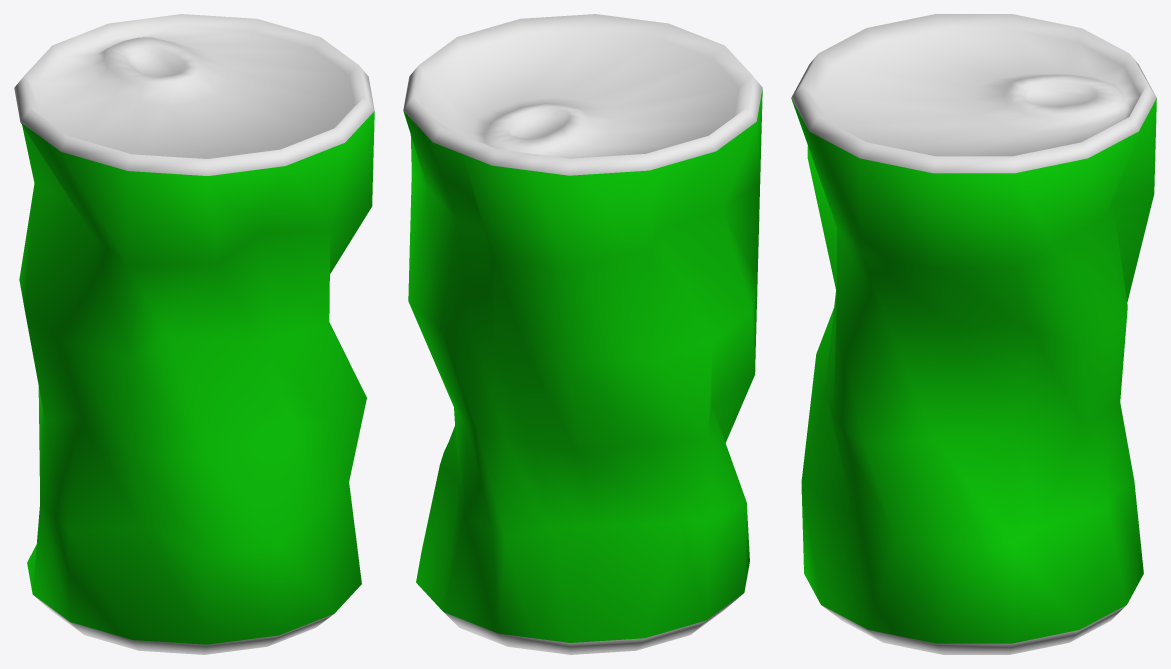
Rendered from lataDestruida1.glb.
The picture shows the model from 3 angles, left to right: view 1: azimuth 30°, elevation 25°; view 2: azimuth 150°, elevation 25°; view 3: azimuth 270°, elevation 25°; orthographic projection.
Parts seen in each view (by area): view 1: Cylinder.002; view 2: Cylinder.002; view 3: Cylinder.002.
Boxes of the visible parts, x1=… form: Cylinder.002: x1=14, y1=14, x2=374, y2=654; Cylinder.002: x1=403, y1=14, x2=762, y2=654; Cylinder.002: x1=791, y1=14, x2=1156, y2=654.
Bounding box in the file's own units: 1.34 × 2.11 × 1.37.
